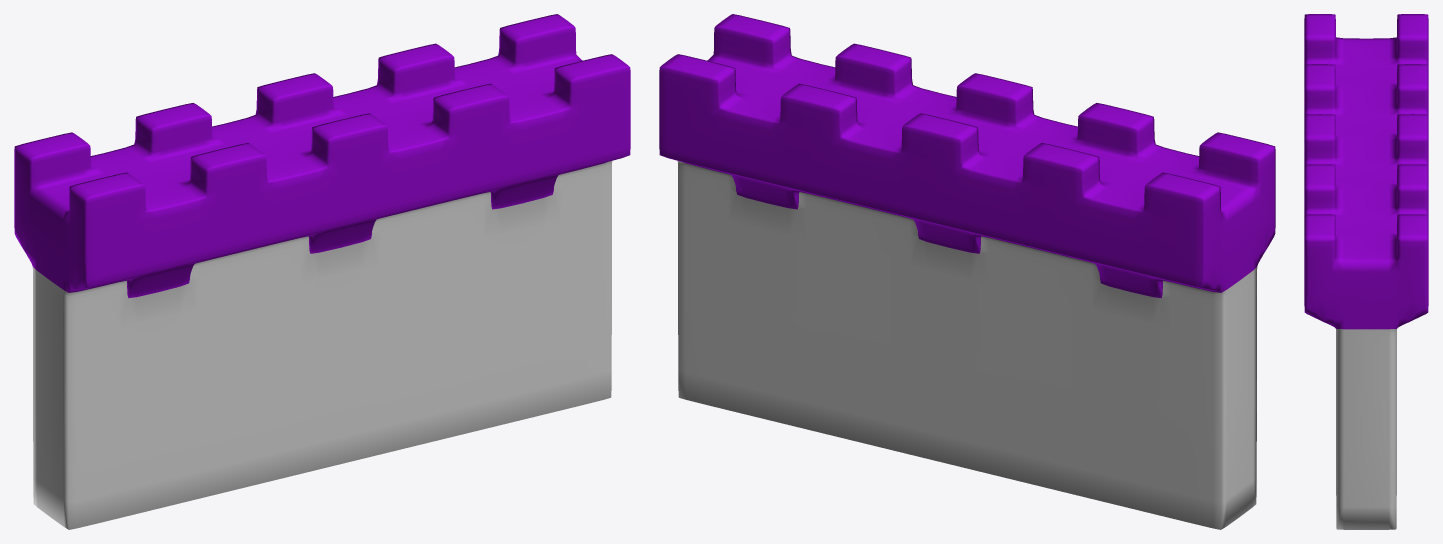
File: casle_bridge2.fbx
The picture shows the model from 3 angles, left to right: view 1: azimuth 30°, elevation 25°; view 2: azimuth 150°, elevation 25°; view 3: azimuth 270°, elevation 25°; orthographic projection. The views are drawn at different scales.
Visible parts, largest first — view 1: Box003; view 2: Box003; view 3: Box003.
Boxes of the visible parts, box(x1,y1,x2,y2) form: Box003: box(14, 14, 630, 529); Box003: box(659, 14, 1275, 529); Box003: box(1304, 14, 1428, 529).
Size of the model in its own units: 110 by 25.68 by 66.89.
